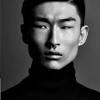no_mask: (26, 1, 89, 74)
